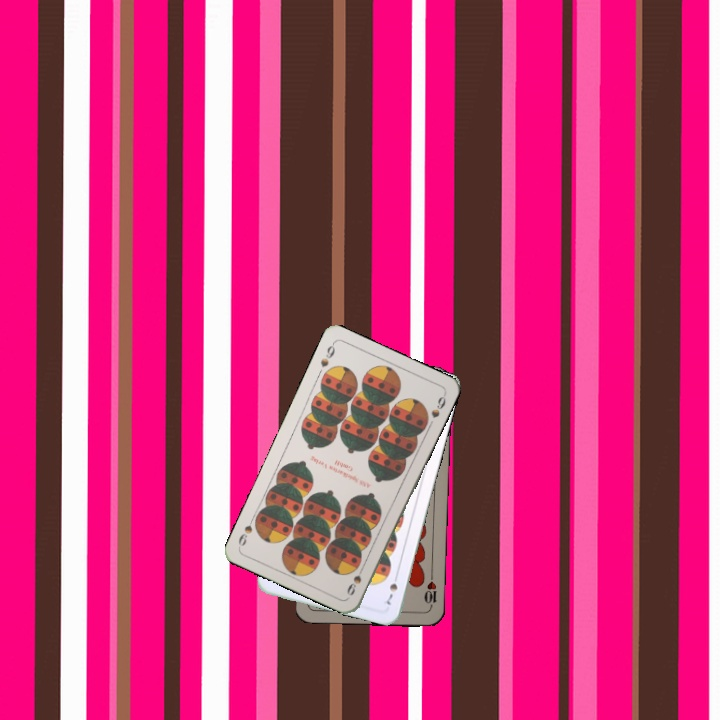H10: (420, 570, 439, 610)
S7: (382, 570, 401, 607)
S9: (343, 560, 367, 598), (316, 339, 338, 370)
